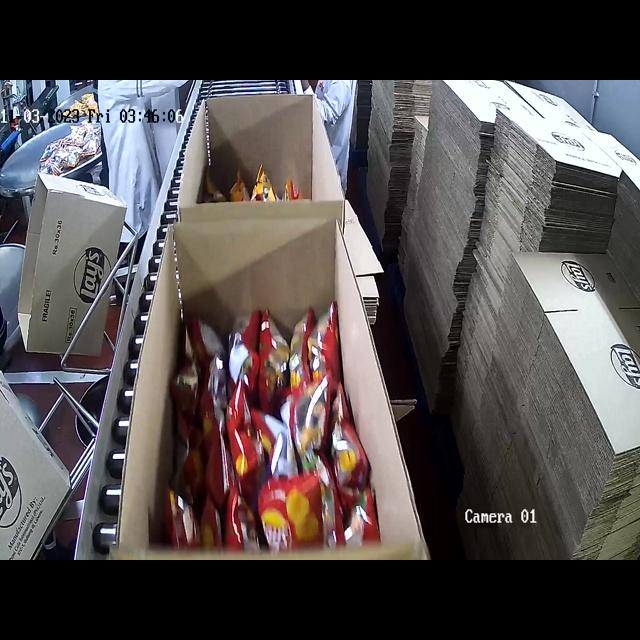cheese: (198, 162, 318, 208)
masala: (175, 317, 351, 560)
